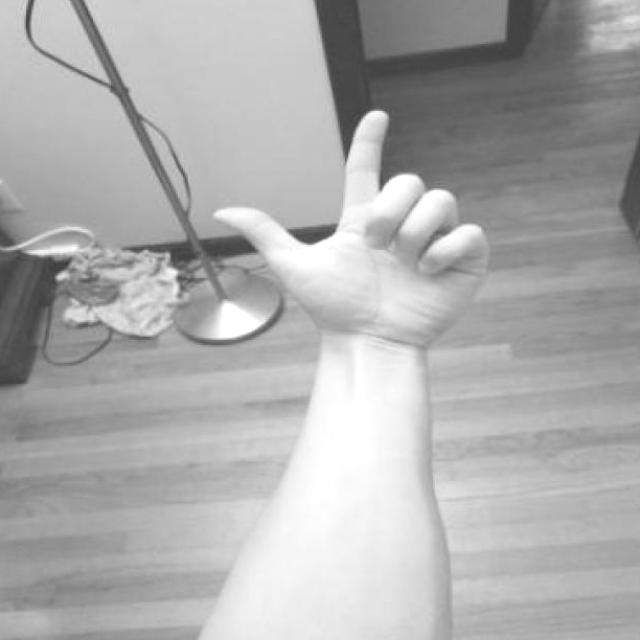L: (207, 95, 503, 384)
